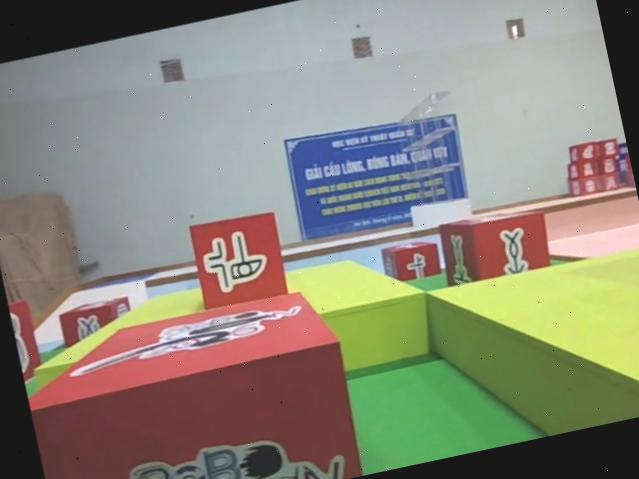R1: (15, 279, 371, 479)
R2 Fake: (5, 292, 46, 389)
R2 Real: (432, 196, 558, 296), (185, 204, 296, 316), (377, 234, 442, 286)
